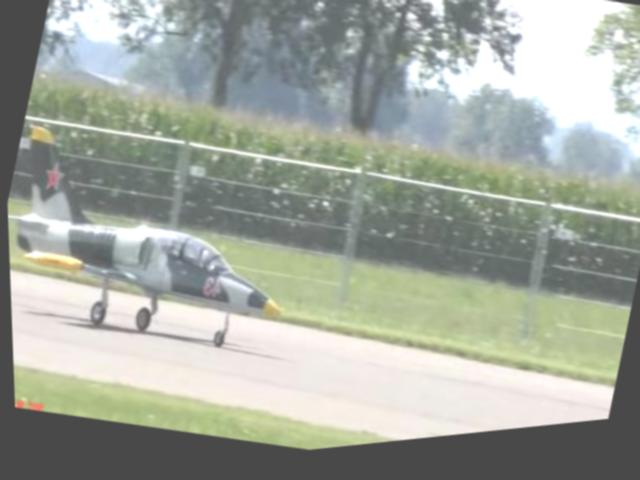uav: (3, 94, 325, 382)
